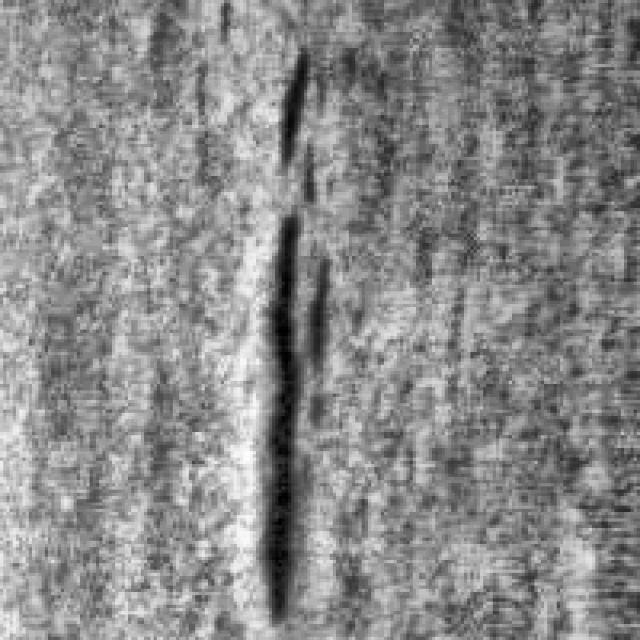Patches: (243, 198, 336, 621), (260, 38, 326, 195)
